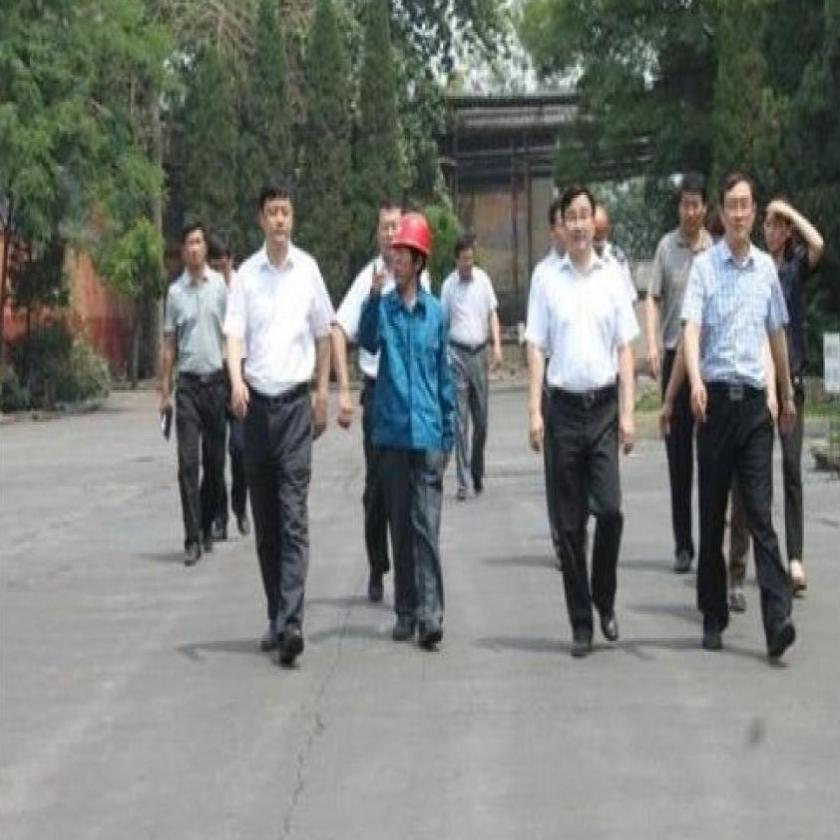Con_casco: (389, 209, 435, 292)
Sin_casco: (164, 202, 221, 284), (258, 174, 307, 268), (562, 174, 602, 262), (721, 160, 760, 246), (680, 162, 716, 234), (450, 228, 480, 286)
